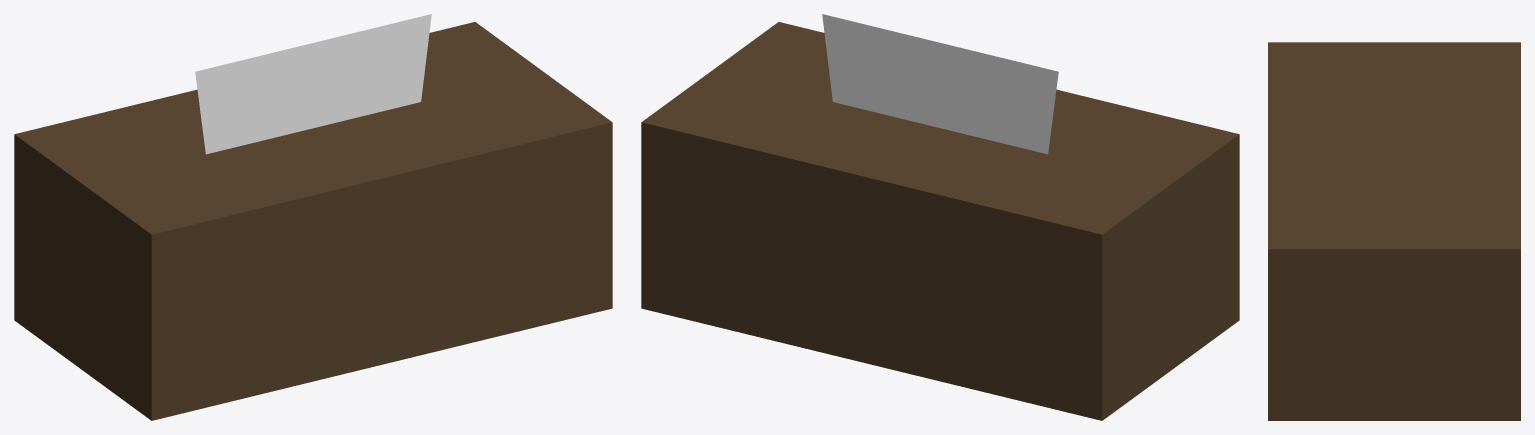
The model's file is Itr_Obj_Tissue_03.FBX.
3 views of the same model, side by side, from view 1: azimuth 30°, elevation 25°; view 2: azimuth 150°, elevation 25°; view 3: azimuth 270°, elevation 25° (orthographic). The views are drawn at different scales.
Parts seen in each view (by area): view 1: Itr_Obj_Tissue_03; view 2: Itr_Obj_Tissue_03; view 3: Itr_Obj_Tissue_03.
Part boxes in pixels (x1,y1,x2,y2): Itr_Obj_Tissue_03: (14,14,612,420); Itr_Obj_Tissue_03: (641,14,1239,420); Itr_Obj_Tissue_03: (1268,42,1520,420).
Size of the model in its own units: 16.29 by 9.18 by 8.4.
